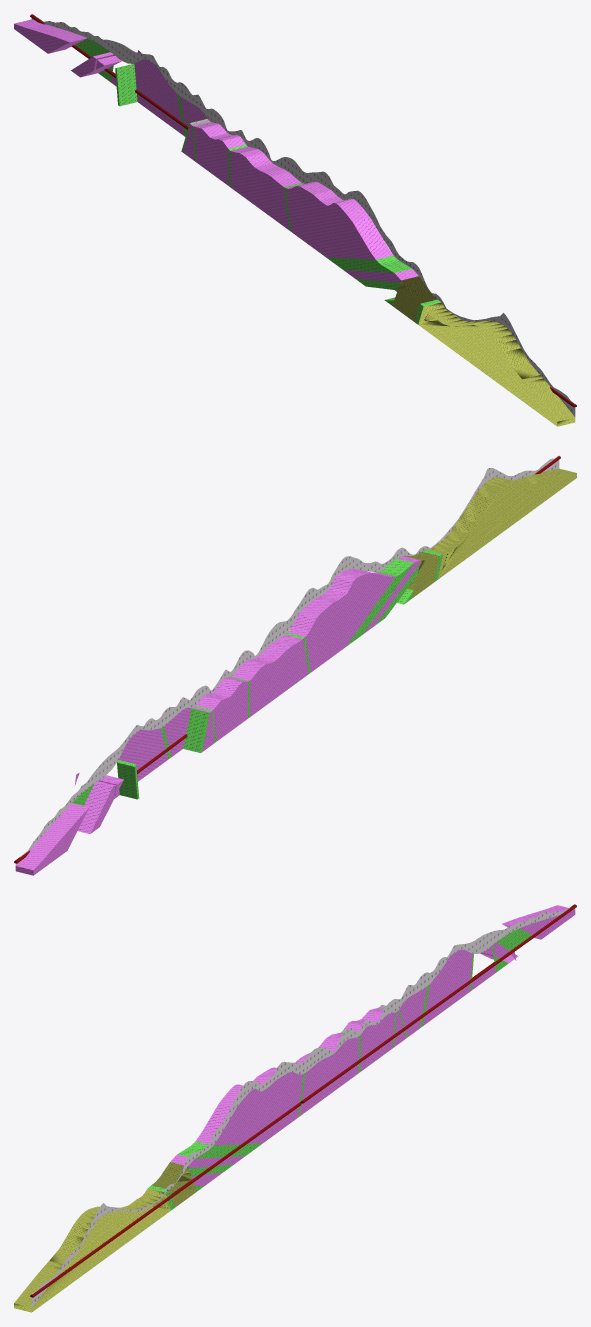
The model's file is mys3_Sec.obj.
3 views of the same model, one above another, from view 1: azimuth 30°, elevation 25°; view 2: azimuth 150°, elevation 25°; view 3: azimuth 330°, elevation 25° (orthographic).
Parts seen in each view (by area): view 1: 1, 0, 2, fractures, tunnel_left; view 2: 1, 0, 2, fractures; view 3: 1, 0, 2, tunnel_left, fractures.
Part boxes in pixels (bbox=[...]): 1: bbox=[14, 19, 418, 291]; 0: bbox=[392, 276, 575, 426]; 2: bbox=[31, 17, 575, 416]; fractures: bbox=[75, 38, 440, 324]; tunnel_left: bbox=[30, 14, 576, 407]; 1: bbox=[15, 556, 420, 875]; 0: bbox=[404, 468, 576, 598]; 2: bbox=[15, 455, 559, 865]; fractures: bbox=[72, 549, 442, 805]; 1: bbox=[170, 905, 575, 1186]; 0: bbox=[14, 1162, 196, 1312]; 2: bbox=[31, 907, 575, 1307]; tunnel_left: bbox=[30, 904, 576, 1297]; fractures: bbox=[148, 928, 531, 1210].
Bounding box in the file's own units: 160 × 275 × 3695.
5 materials, 4 textured.
